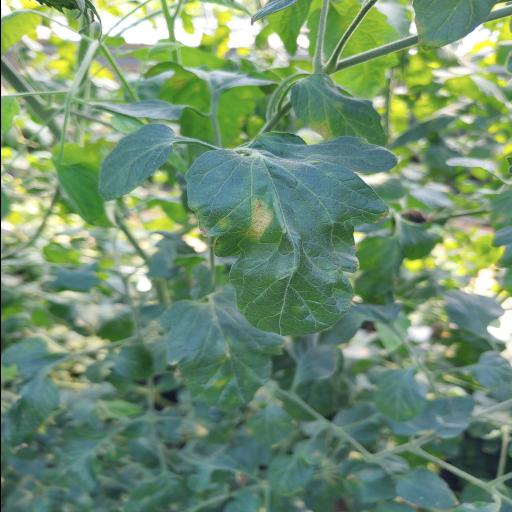Leaf Mold: (181, 132, 399, 336)
